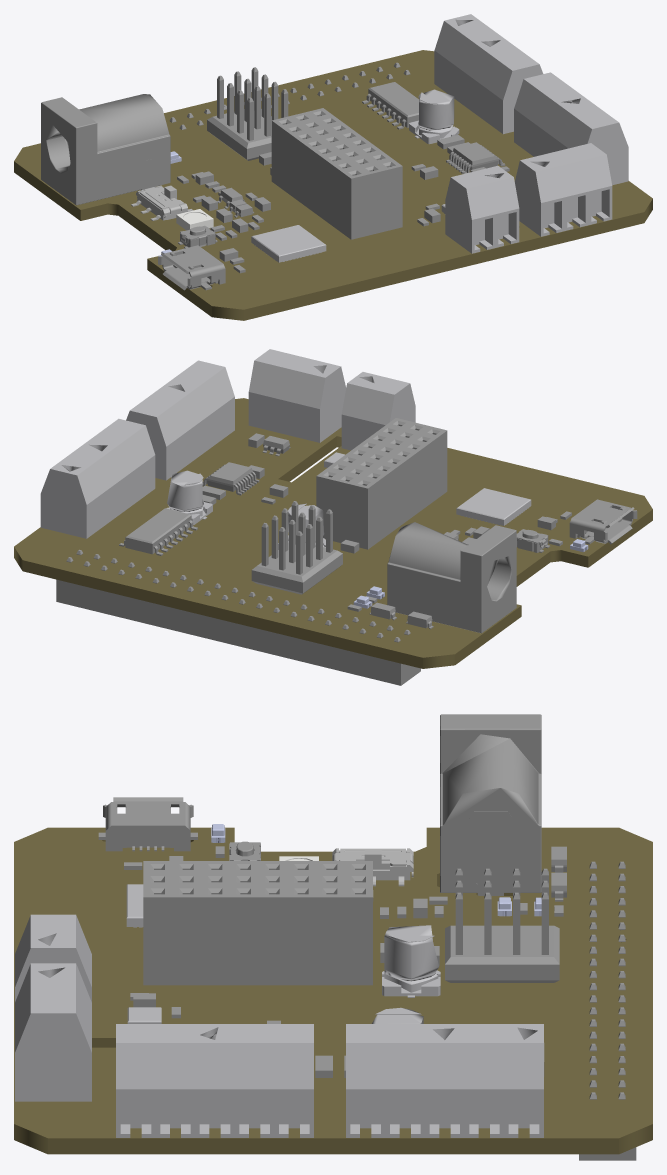
The model's file is ada-3957.glb.
3 renders of one model, top to bottom at view 1: azimuth 30°, elevation 25°; view 2: azimuth 150°, elevation 25°; view 3: azimuth 270°, elevation 25°, orthographic. The views are drawn at different scales.
Parts seen in each view (by area): view 1: 0.16666666666666666_0.16666666666666666_0.08333333333333333_, 0.3333333333333333_0.3333333333333333_0.3333333333333333_0, 0.5833333333333334_0.5833333333333334_0.5833333333333334_0.8, 0.5_0.5_0.5_0.85, 0.9166666666666666_0.9166666666666666_0.9166666666666666_0.8; view 2: 0.16666666666666666_0.16666666666666666_0.08333333333333333_, 0.3333333333333333_0.3333333333333333_0.3333333333333333_0, 0.5833333333333334_0.5833333333333334_0.5833333333333334_0.8, 0.5833333333333334_0.6666666666666666_0.8333333333333334_0; view 3: 0.16666666666666666_0.16666666666666666_0.08333333333333333_, 0.3333333333333333_0.3333333333333333_0.3333333333333333_0, 0.5833333333333334_0.5833333333333334_0.5833333333333334_0.8, 0.5_0.5_0.5_0.85, 0.5833333333333334_0.6666666666666666_0.8333333333333334_0.
Boxes of the visible parts, bbox=[...] form: 0.16666666666666666_0.16666666666666666_0.08333333333333333_: bbox=[14, 50, 652, 320]; 0.3333333333333333_0.3333333333333333_0.3333333333333333_0: bbox=[41, 62, 509, 290]; 0.5833333333333334_0.5833333333333334_0.5833333333333334_0.8: bbox=[251, 14, 628, 262]; 0.5_0.5_0.5_0.85: bbox=[131, 185, 193, 220]; 0.9166666666666666_0.9166666666666666_0.9166666666666666_0.8: bbox=[176, 209, 213, 230]; 0.16666666666666666_0.16666666666666666_0.08333333333333333_: bbox=[14, 398, 652, 668]; 0.3333333333333333_0.3333333333333333_0.3333333333333333_0: bbox=[56, 418, 637, 685]; 0.5833333333333334_0.5833333333333334_0.5833333333333334_0.8: bbox=[40, 349, 531, 549]; 0.5833333333333334_0.6666666666666666_0.8333333333333334_0: bbox=[353, 539, 588, 608]; 0.16666666666666666_0.16666666666666666_0.08333333333333333_: bbox=[14, 827, 652, 1154]; 0.3333333333333333_0.3333333333333333_0.3333333333333333_0: bbox=[98, 714, 636, 1160]; 0.5833333333333334_0.5833333333333334_0.5833333333333334_0.8: bbox=[15, 884, 543, 1137]; 0.5_0.5_0.5_0.85: bbox=[332, 848, 413, 886]; 0.5833333333333334_0.6666666666666666_0.8333333333333334_0: bbox=[211, 824, 541, 916].
Size of the model in its own units: 6.56 by 1.66 by 5.65.
